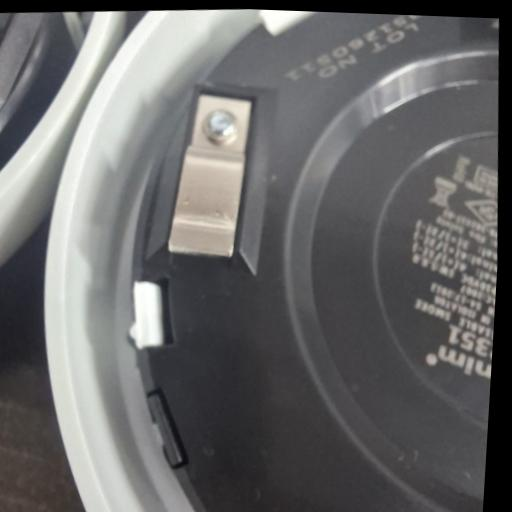yaysiz: (158, 85, 264, 266)
